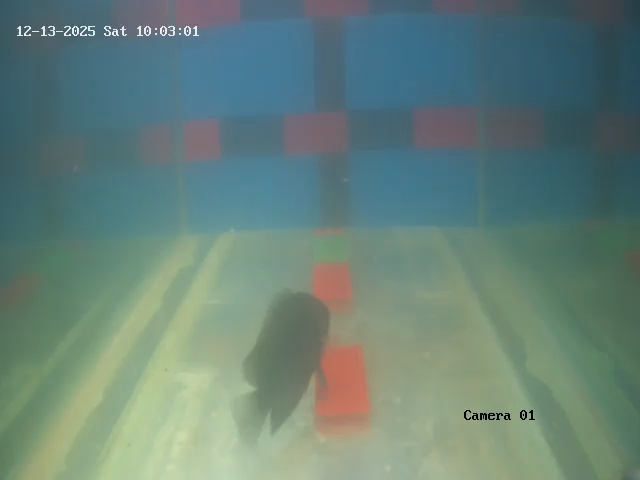fish: (237, 291, 333, 401)
